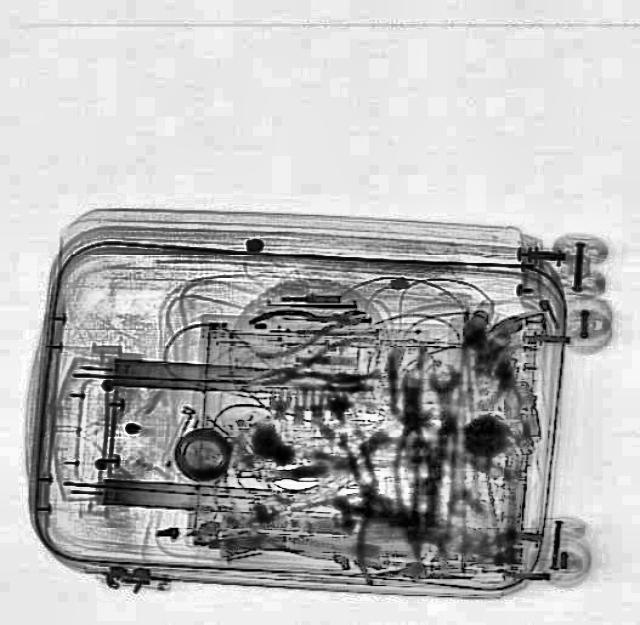Pliers: (237, 330, 381, 406), (242, 290, 372, 362)
Wrench: (424, 367, 466, 441)
